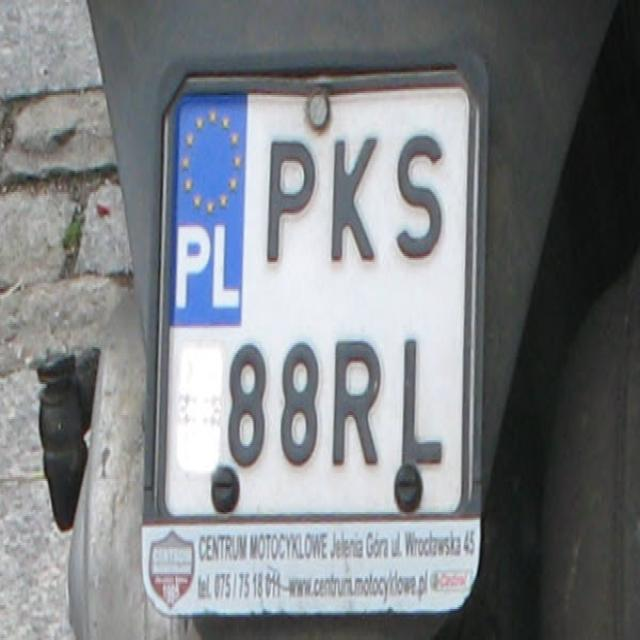pl_license_plate: (168, 85, 463, 510)
